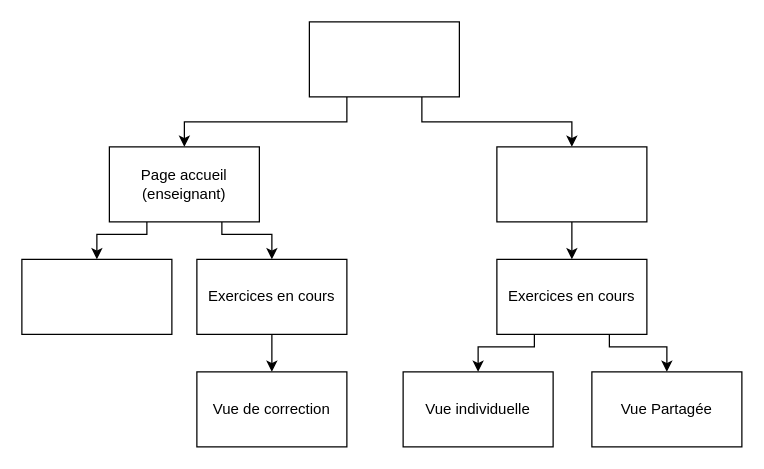
The diagram is 764 pixels wide and 469 high, and some of its shapes have lost their labels. Each missing label, with the centre of its shape:
Créer un exercice: the point at 96,296
Home: the point at 383,59
Page accueil (élève): the point at 571,184
